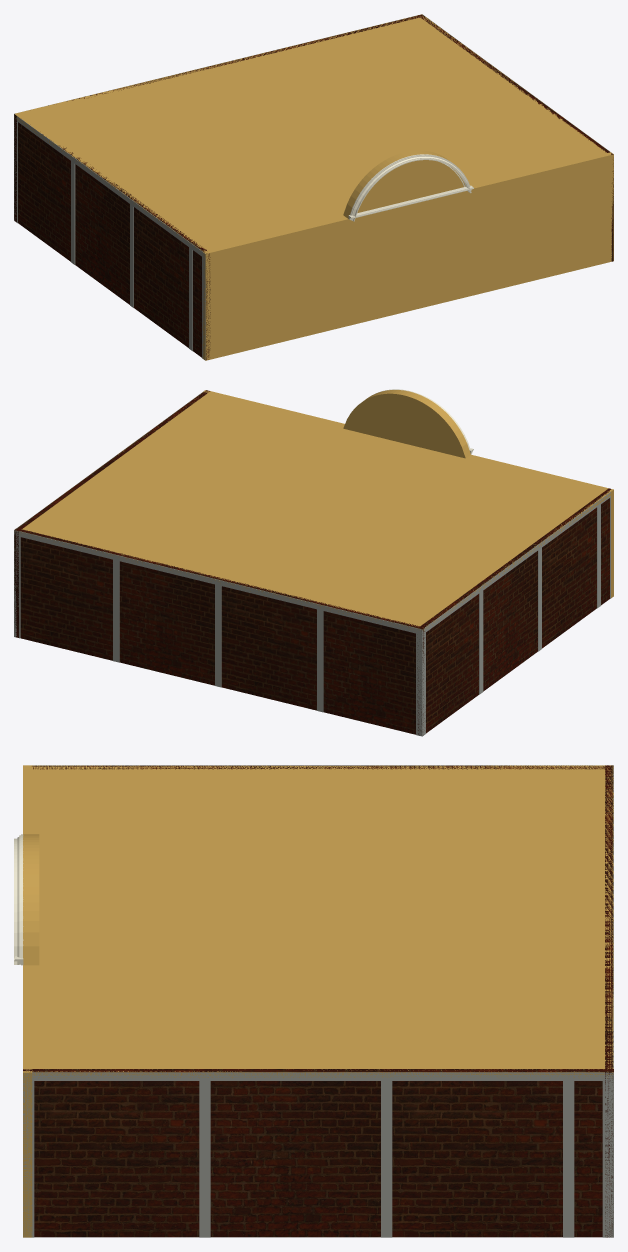
The model's file is building.glb.
3 views of the same model, one above another, from view 1: azimuth 30°, elevation 25°; view 2: azimuth 150°, elevation 25°; view 3: azimuth 270°, elevation 25° (orthographic). The views are drawn at different scales.
Visible parts, largest first — view 1: roof/house:0/roof_slab#0001, house:0/edge0/z0/house:0/edge0/z0/wall_0_0, house:0/edge3/z0/house:0/edge3/z0/wall_0_0, crown/coronamiento/crown_body#0001, house:0/edge2/z0/house:0/edge2/z0/wall_0_0, house:0/edge3/z0/house:0/edge3/z0/beam_0_0, house:0/edge1/z0/house:0/edge1/z0/wall_0_0, crown/coronamiento/crown_moulding#0001, crown/coronamiento/crown_base_cornice#0001, house:0/edge3/z0/house:0/edge3/z0/column_2_0; view 2: roof/house:0/roof_slab#0001, house:0/edge2/z0/house:0/edge2/z0/wall_0_0, house:0/edge3/z0/house:0/edge3/z0/wall_0_0, crown/coronamiento/crown_body#0001, house:0/edge2/z0/house:0/edge2/z0/beam_0_0, house:0/edge1/z0/house:0/edge1/z0/wall_0_0, house:0/edge0/z0/house:0/edge0/z0/wall_0_0, house:0/edge3/z0/house:0/edge3/z0/beam_0_0, house:0/edge2/z0/house:0/edge2/z0/column_2_0, house:0/edge2/z0/house:0/edge2/z0/column_4_0, house:0/edge2/z0/house:0/edge2/z0/column_1_0, house:0/edge2/z0/house:0/edge2/z0/column_3_0 (+2 smaller); view 3: roof/house:0/roof_slab#0001, house:0/edge1/z0/house:0/edge1/z0/wall_0_0, house:0/edge1/z0/house:0/edge1/z0/beam_0_0, house:0/edge0/z0/house:0/edge0/z0/wall_0_0, house:0/edge2/z0/house:0/edge2/z0/wall_0_0, house:0/edge3/z0/house:0/edge3/z0/wall_0_0, crown/coronamiento/crown_body#0001, house:0/edge1/z0/house:0/edge1/z0/column_1_0, house:0/edge1/z0/house:0/edge1/z0/column_2_0, house:0/edge1/z0/house:0/edge1/z0/column_3_0, house:0/edge1/z0/house:0/edge1/z0/column_4_0, house:0/edge1/z0/house:0/edge1/z0/column_0_0 (+1 smaller).
Part boxes in pixels (left/top/right/bottom): roof/house:0/roof_slab#0001: left=14, top=14, right=613, bottom=255; house:0/edge0/z0/house:0/edge0/z0/wall_0_0: left=202, top=152, right=613, bottom=360; house:0/edge3/z0/house:0/edge3/z0/wall_0_0: left=18, top=122, right=210, bottom=359; crown/coronamiento/crown_body#0001: left=343, top=150, right=465, bottom=218; house:0/edge2/z0/house:0/edge2/z0/wall_0_0: left=14, top=14, right=423, bottom=222; house:0/edge3/z0/house:0/edge3/z0/beam_0_0: left=14, top=113, right=205, bottom=258; house:0/edge1/z0/house:0/edge1/z0/wall_0_0: left=418, top=14, right=613, bottom=261; crown/coronamiento/crown_moulding#0001: left=349, top=154, right=471, bottom=221; crown/coronamiento/crown_base_cornice#0001: left=348, top=185, right=473, bottom=219; house:0/edge3/z0/house:0/edge3/z0/column_2_0: left=71, top=161, right=75, bottom=264; roof/house:0/roof_slab#0001: left=14, top=391, right=613, bottom=630; house:0/edge2/z0/house:0/edge2/z0/wall_0_0: left=14, top=528, right=424, bottom=734; house:0/edge3/z0/house:0/edge3/z0/wall_0_0: left=417, top=488, right=610, bottom=734; crown/coronamiento/crown_body#0001: left=343, top=390, right=469, bottom=458; house:0/edge2/z0/house:0/edge2/z0/beam_0_0: left=14, top=530, right=422, bottom=634; house:0/edge1/z0/house:0/edge1/z0/wall_0_0: left=14, top=390, right=209, bottom=637; house:0/edge0/z0/house:0/edge0/z0/wall_0_0: left=203, top=390, right=613, bottom=598; house:0/edge3/z0/house:0/edge3/z0/beam_0_0: left=422, top=492, right=610, bottom=634; house:0/edge2/z0/house:0/edge2/z0/column_2_0: left=113, top=559, right=119, bottom=662; house:0/edge2/z0/house:0/edge2/z0/column_4_0: left=317, top=609, right=323, bottom=712; house:0/edge2/z0/house:0/edge2/z0/column_1_0: left=416, top=633, right=422, bottom=736; house:0/edge2/z0/house:0/edge2/z0/column_3_0: left=215, top=584, right=221, bottom=687; roof/house:0/roof_slab#0001: left=23, top=765, right=613, bottom=1078; house:0/edge1/z0/house:0/edge1/z0/wall_0_0: left=23, top=1069, right=613, bottom=1237; house:0/edge1/z0/house:0/edge1/z0/beam_0_0: left=23, top=1072, right=613, bottom=1080; house:0/edge0/z0/house:0/edge0/z0/wall_0_0: left=23, top=765, right=32, bottom=1237; house:0/edge2/z0/house:0/edge2/z0/wall_0_0: left=605, top=765, right=613, bottom=1237; house:0/edge3/z0/house:0/edge3/z0/wall_0_0: left=32, top=765, right=604, bottom=769; crown/coronamiento/crown_body#0001: left=25, top=834, right=39, bottom=965; house:0/edge1/z0/house:0/edge1/z0/column_1_0: left=602, top=1081, right=613, bottom=1237; house:0/edge1/z0/house:0/edge1/z0/column_2_0: left=199, top=1081, right=210, bottom=1237; house:0/edge1/z0/house:0/edge1/z0/column_3_0: left=381, top=1081, right=392, bottom=1237; house:0/edge1/z0/house:0/edge1/z0/column_4_0: left=563, top=1081, right=574, bottom=1237; house:0/edge1/z0/house:0/edge1/z0/column_0_0: left=23, top=1081, right=34, bottom=1237.
Size of the model in its own units: 16 by 5.8 by 13.2.
Materials: 4 (1 with a texture image).
